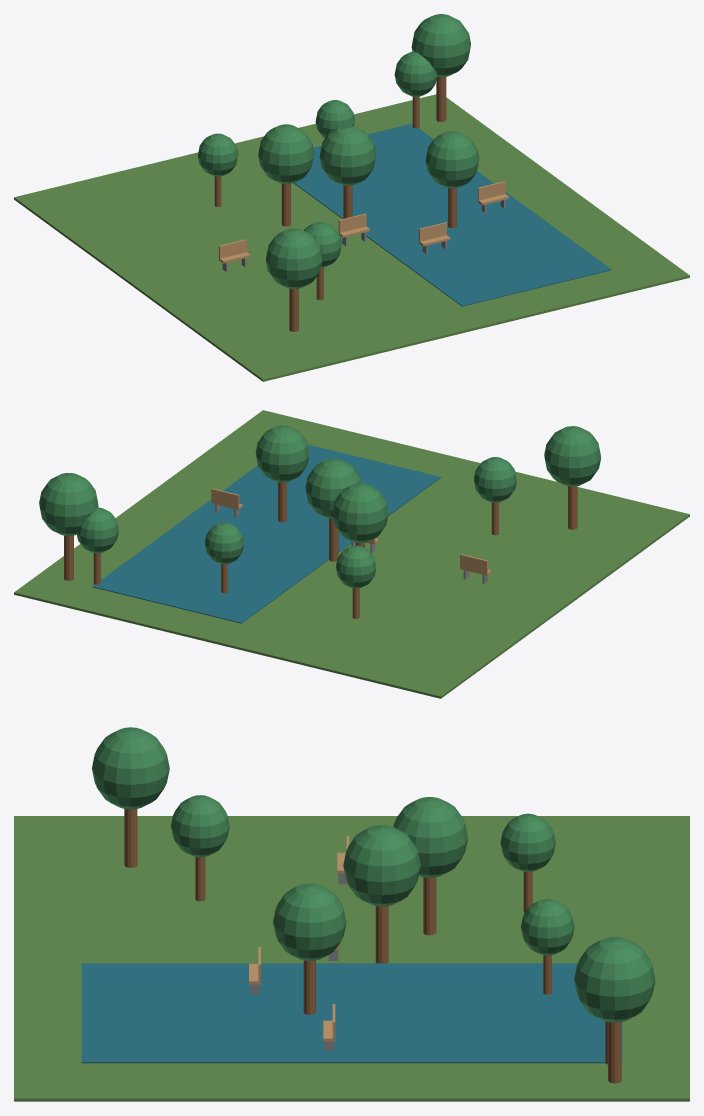
The model's file is Park_003.glb.
3 renders of one model, top to bottom at view 1: azimuth 30°, elevation 25°; view 2: azimuth 150°, elevation 25°; view 3: azimuth 270°, elevation 25°, orthographic. The views are drawn at different scales.
Parts seen in each view (by area): view 1: Park_003; view 2: Park_003; view 3: Park_003.
Boxes of the visible parts, <box> form: Park_003: <box>14,14,689,381</box>; Park_003: <box>14,410,689,698</box>; Park_003: <box>14,727,689,1101</box>.
Bounding box in the file's own units: 31.6 × 7.47 × 31.95.
